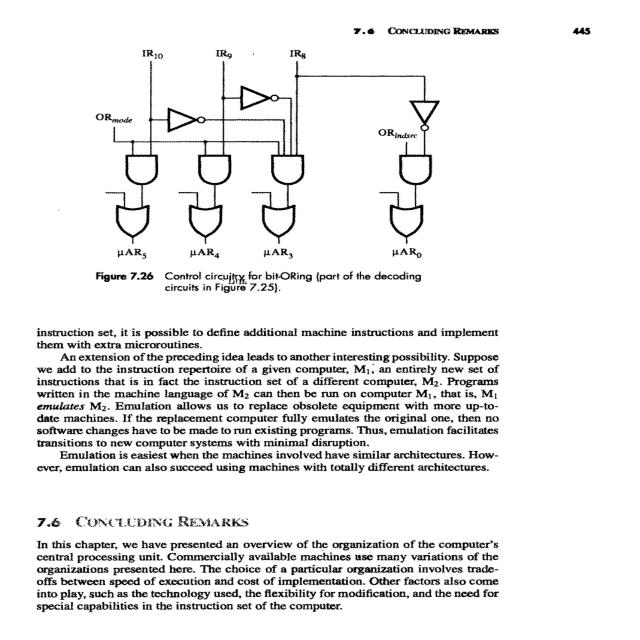diagram: (23, 35, 568, 302)
